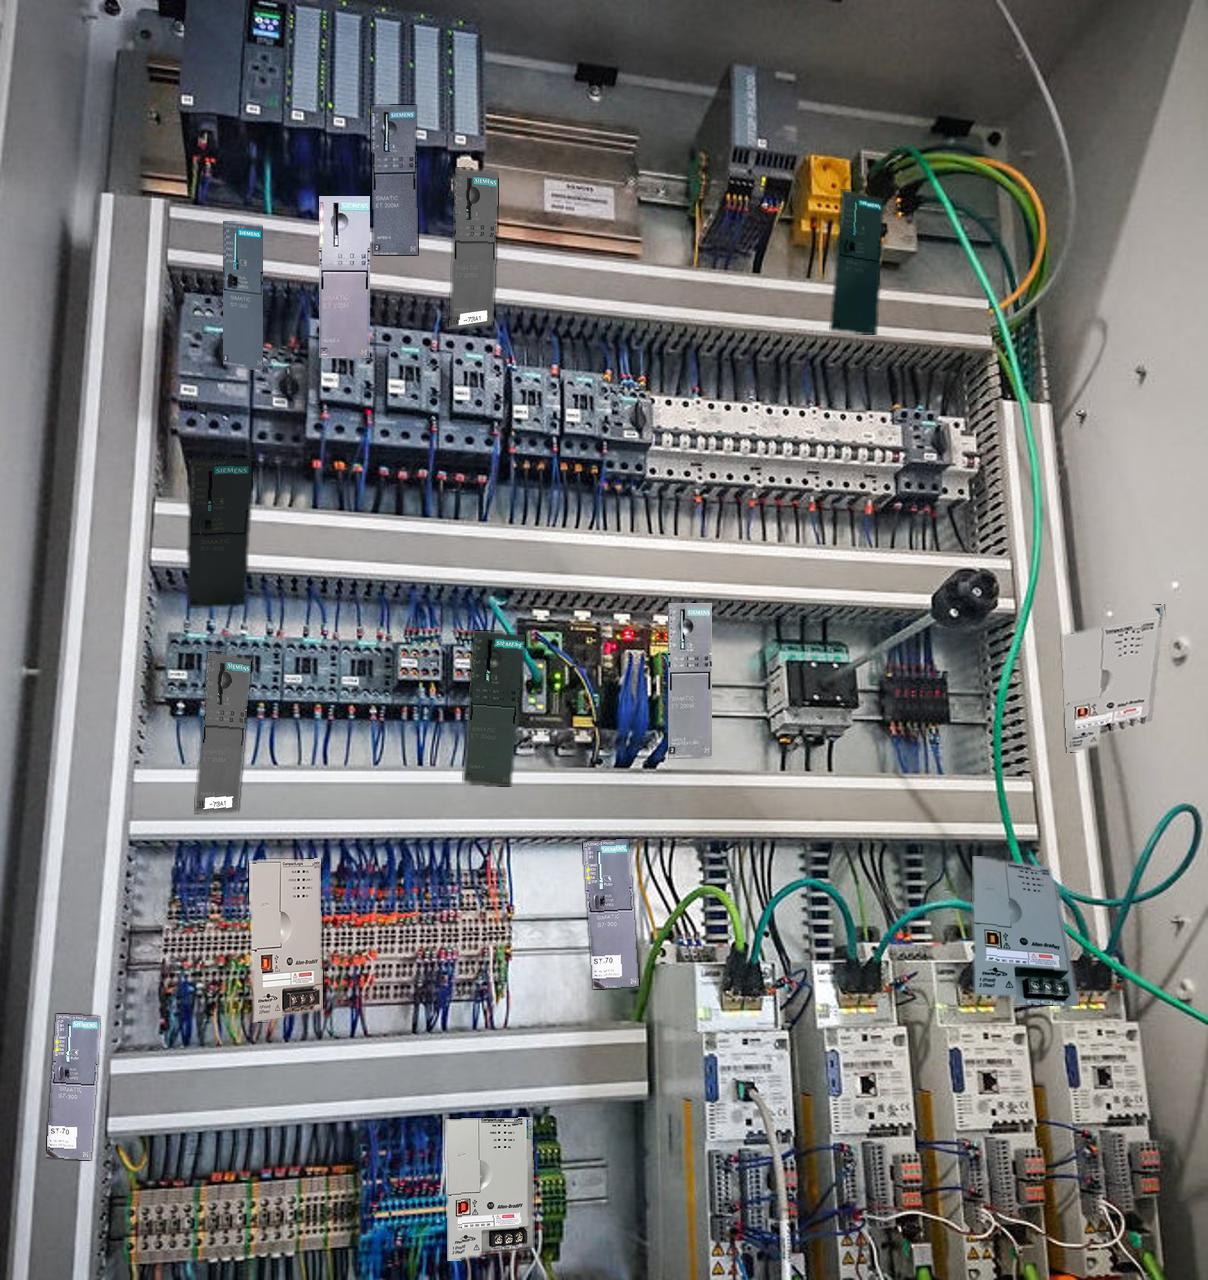AllenBradley: (972, 856, 1077, 1005), (1062, 604, 1163, 752), (446, 1116, 532, 1260), (249, 857, 322, 1022)
Siemens: (188, 458, 252, 606), (584, 839, 638, 988), (47, 1014, 99, 1158), (831, 189, 882, 334), (223, 221, 262, 369)
